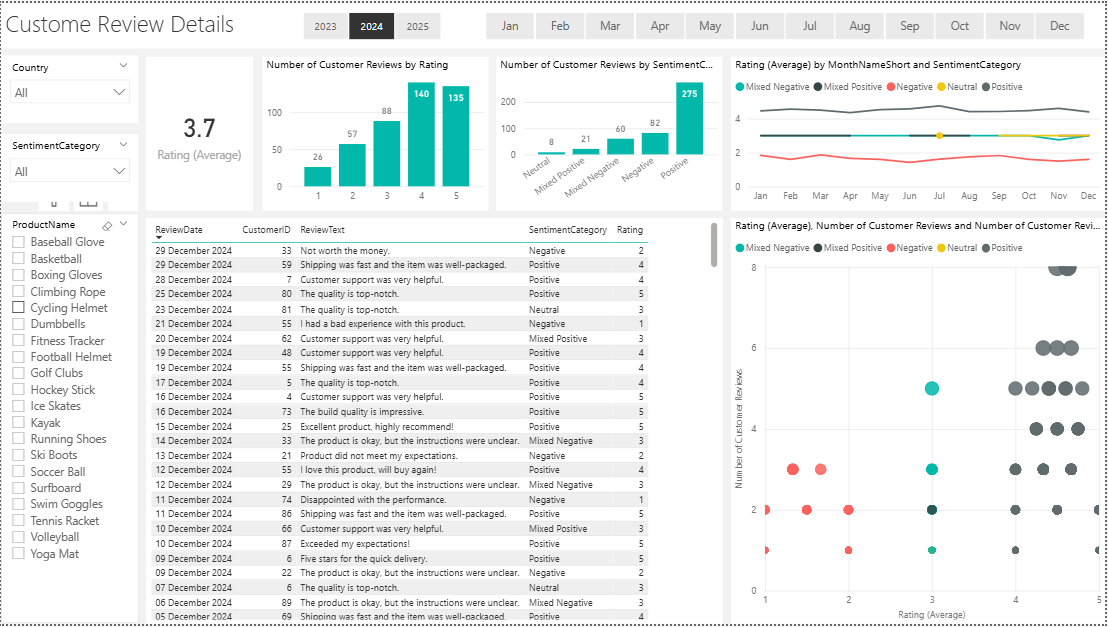

The page's visual inventory and layout, read from the dashboard file:
{"tool":"powerbi","page":{"name":"Customer Review Details","canvas":[1280,720],"ordinal":3},"visuals":[{"type":"textbox","box":[0,0,1280,52.6],"z":0},{"type":"slicer","fields":{"Values":["dim_products.ProductName"]},"box":[0,244.2,159.3,475.3],"z":1000},{"type":"card","fields":{"Values":["_Calculations.Rating (Average)"]},"box":[168.5,61.9,123.8,178.5],"z":2000},{"type":"slicer","fields":{"Values":["Calendar.MonthNameShort"]},"box":[536.8,4.1,743.2,44.4],"z":3000},{"type":"lineChart","fields":{"Category":["Calendar.MonthNameShort"],"Y":["_Calculations.Rating (Average)"],"Series":["fact_customer_reviews_with_sentiment.SentimentCategory"]},"box":[846.2,62,434.1,178.4],"z":4000},{"type":"slicer","fields":{"Values":["Calendar.Year"]},"box":[324.1,4.1,208.5,44.4],"z":5000},{"type":"tableEx","fields":{"Values":["fact_customer_reviews_with_sentiment.ReviewDate","fact_customer_reviews_with_sentiment.CustomerID","fact_customer_reviews_with_sentiment.ReviewText","fact_customer_reviews_with_sentiment.SentimentCategory","fact_customer_reviews_with_sentiment.Rating"]},"box":[168.5,249.5,668.4,470.8],"z":6000},{"type":"columnChart","fields":{"Category":["fact_customer_reviews_with_sentiment.Rating"],"Y":["_Calculations.Number of Customer Reviews"]},"box":[302.4,62,262.4,178.4],"z":7000},{"type":"columnChart","fields":{"Category":["fact_customer_reviews_with_sentiment.SentimentCategory"],"Y":["_Calculations.Number of Customer Reviews"]},"box":[574.3,62,262.4,178.4],"z":8000},{"type":"slicer","fields":{"Values":["dim_customers.Country"]},"box":[0,61.4,159.3,78.3],"z":9000},{"type":"slicer","fields":{"Values":["fact_customer_reviews_with_sentiment.SentimentCategory"]},"box":[0,152.8,159.3,78.3],"z":10000},{"type":"scatterChart","fields":{"Category":["dim_customers.CustomerID"],"Series":["fact_customer_reviews_with_sentiment.SentimentCategory"],"X":["_Calculations.Rating (Average)"],"Y":["_Calculations.Number of Customer Reviews"],"Size":["_Calculations.Number of Customer Reviews"]},"box":[846,249.5,434.4,470.8],"z":11000}]}

Visuals, with their boxes in screenshot pixels (x1, y1, x2, y2), scaled from the page's 1280x720 canvas onto the 1108x627 screenshot:
textbox: <bbox>0, 0, 1107, 46</bbox>
slicer - dim_products.ProductName: <bbox>0, 213, 138, 626</bbox>
card - _Calculations.Rating (Average): <bbox>146, 54, 253, 209</bbox>
slicer - Calendar.MonthNameShort: <bbox>465, 4, 1107, 42</bbox>
lineChart - Calendar.MonthNameShort x _Calculations.Rating (Average): <bbox>732, 54, 1107, 209</bbox>
slicer - Calendar.Year: <bbox>281, 4, 461, 42</bbox>
tableEx - fact_customer_reviews_with_sentiment.ReviewDate x fact_customer_reviews_with_sentiment.CustomerID: <bbox>146, 217, 724, 626</bbox>
columnChart - fact_customer_reviews_with_sentiment.Rating x _Calculations.Number of Customer Reviews: <bbox>262, 54, 489, 209</bbox>
columnChart - fact_customer_reviews_with_sentiment.SentimentCategory x _Calculations.Number of Customer Reviews: <bbox>497, 54, 724, 209</bbox>
slicer - dim_customers.Country: <bbox>0, 53, 138, 122</bbox>
slicer - fact_customer_reviews_with_sentiment.SentimentCategory: <bbox>0, 133, 138, 201</bbox>
scatterChart - dim_customers.CustomerID x fact_customer_reviews_with_sentiment.SentimentCategory: <bbox>732, 217, 1107, 626</bbox>
